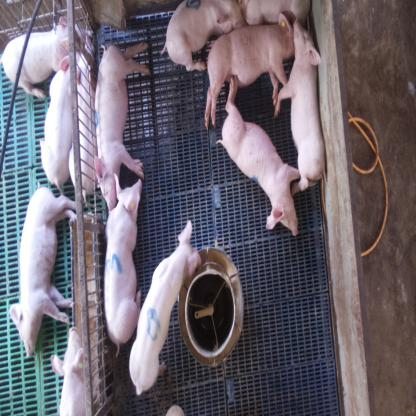2: (105, 251, 123, 277)
N-A: (146, 308, 162, 341)
